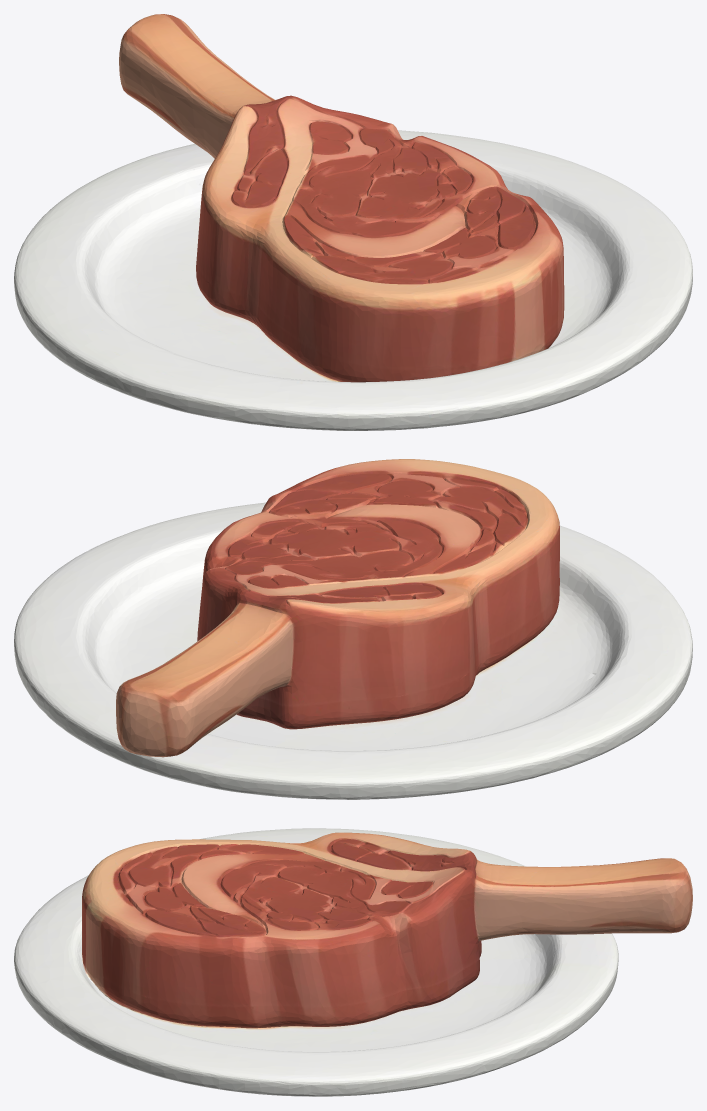
Rendered from meal_15.glb.
The picture shows the model from 3 angles, top to bottom: view 1: azimuth 30°, elevation 25°; view 2: azimuth 150°, elevation 25°; view 3: azimuth 270°, elevation 25°; orthographic projection. The views are drawn at different scales.
Visible parts, largest first — view 1: tripo_node_62649af1-2814-4416-888b-e1aeff51446f; view 2: tripo_node_62649af1-2814-4416-888b-e1aeff51446f; view 3: tripo_node_62649af1-2814-4416-888b-e1aeff51446f.
Boxes of the visible parts, box(x1,y1,x2,y2) form: tripo_node_62649af1-2814-4416-888b-e1aeff51446f: box(14, 14, 692, 430); tripo_node_62649af1-2814-4416-888b-e1aeff51446f: box(14, 459, 692, 799); tripo_node_62649af1-2814-4416-888b-e1aeff51446f: box(14, 828, 692, 1096).
Bounding box in the file's own units: 0.8861 × 0.2124 × 1.
1 material, 1 textured.
